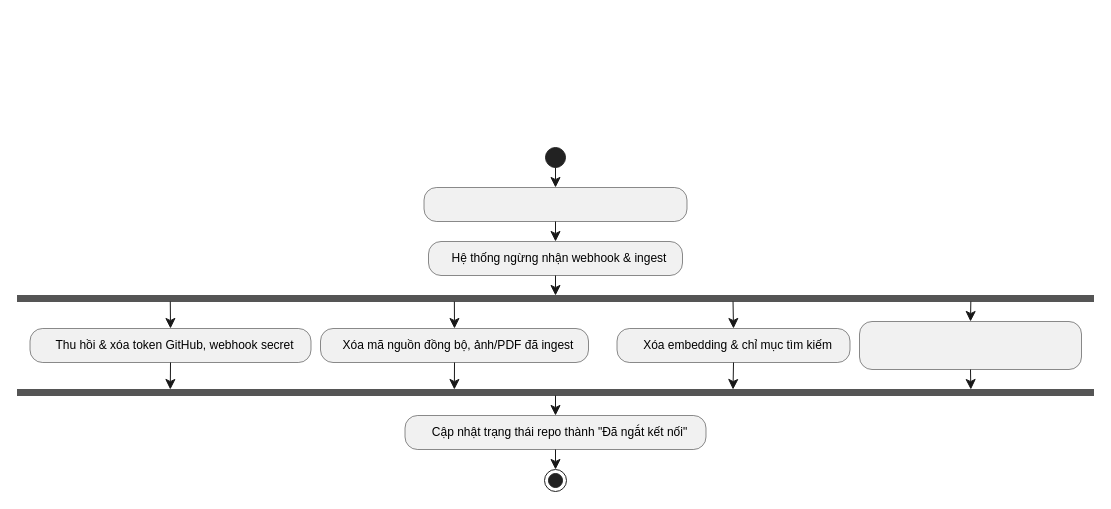
This 1111x509 diagram has some shape labels left out. Here are the shapes that lost their labels. From the top down, the centre of each, then its label:
point 555,204: Developer yêu cầu ngắt kết nối repository
point 970,345: Che (mask) nội dung tài liệu cũ, giữ metadata & digest (chuỗi hash)
